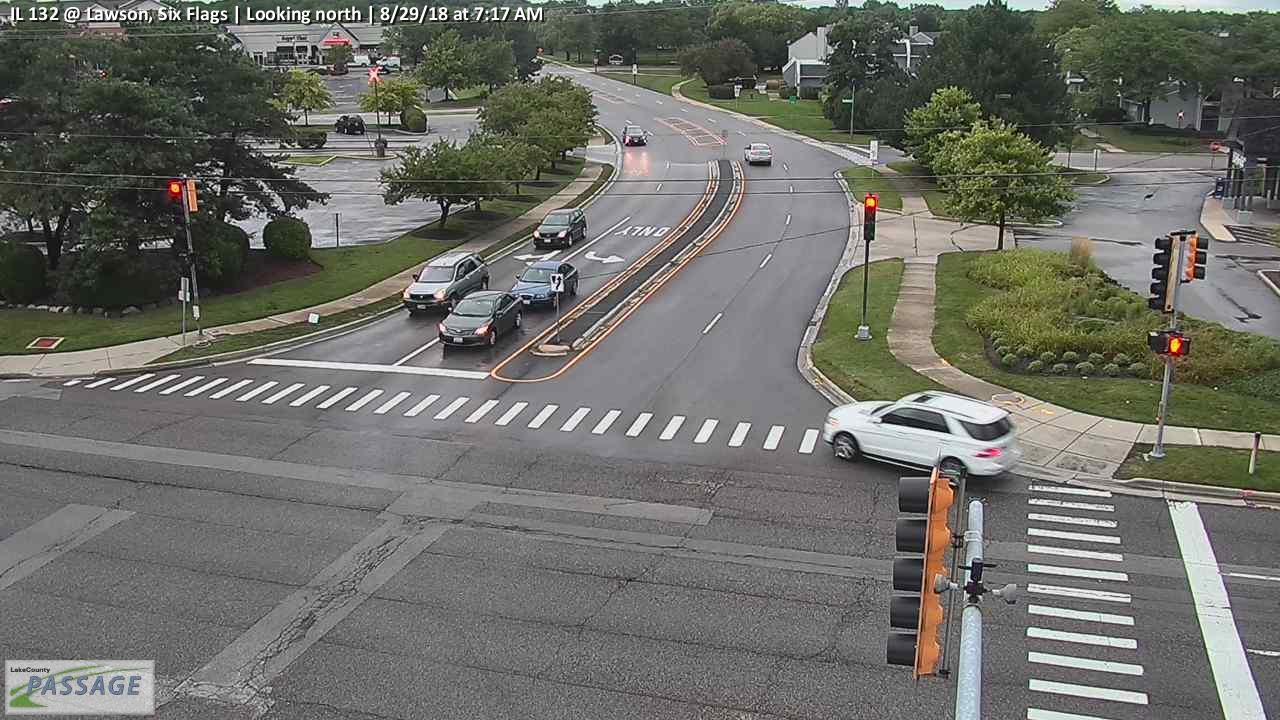SUV: (823, 389, 1016, 487), (401, 250, 489, 313), (533, 208, 587, 247)
Sedan: (438, 290, 524, 346), (511, 260, 578, 308), (744, 142, 772, 164), (621, 125, 647, 146)
